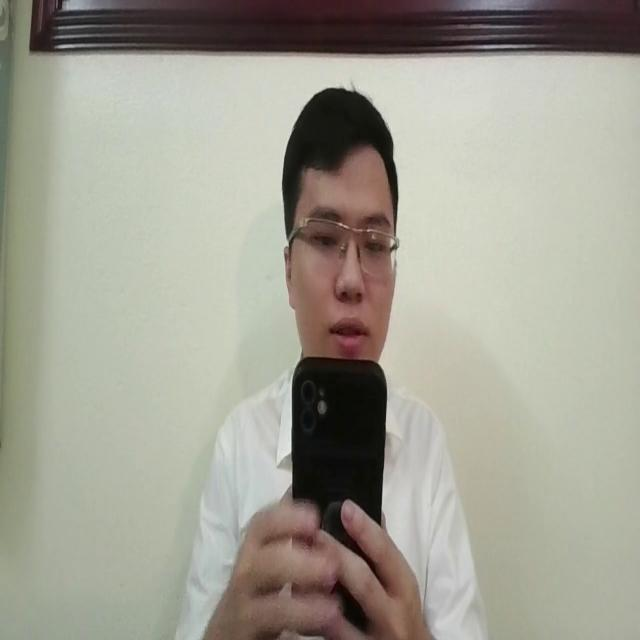phone: (284, 352, 388, 614)
student: (169, 84, 487, 640)
